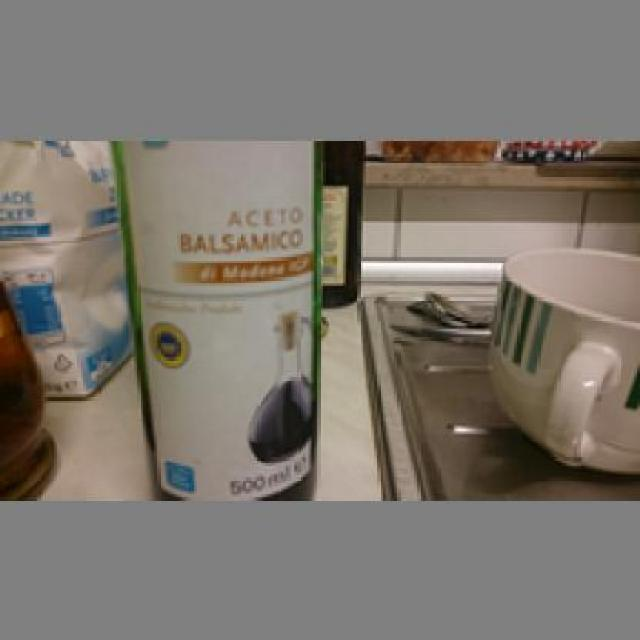Vinegar: (105, 132, 328, 494)
